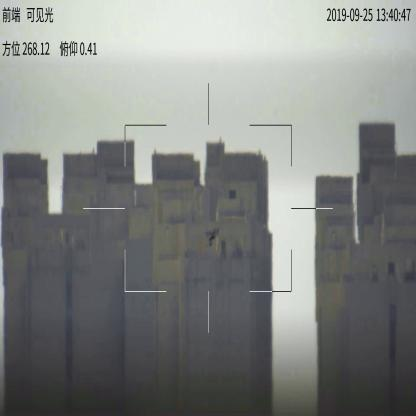uav: (205, 228, 221, 246)
